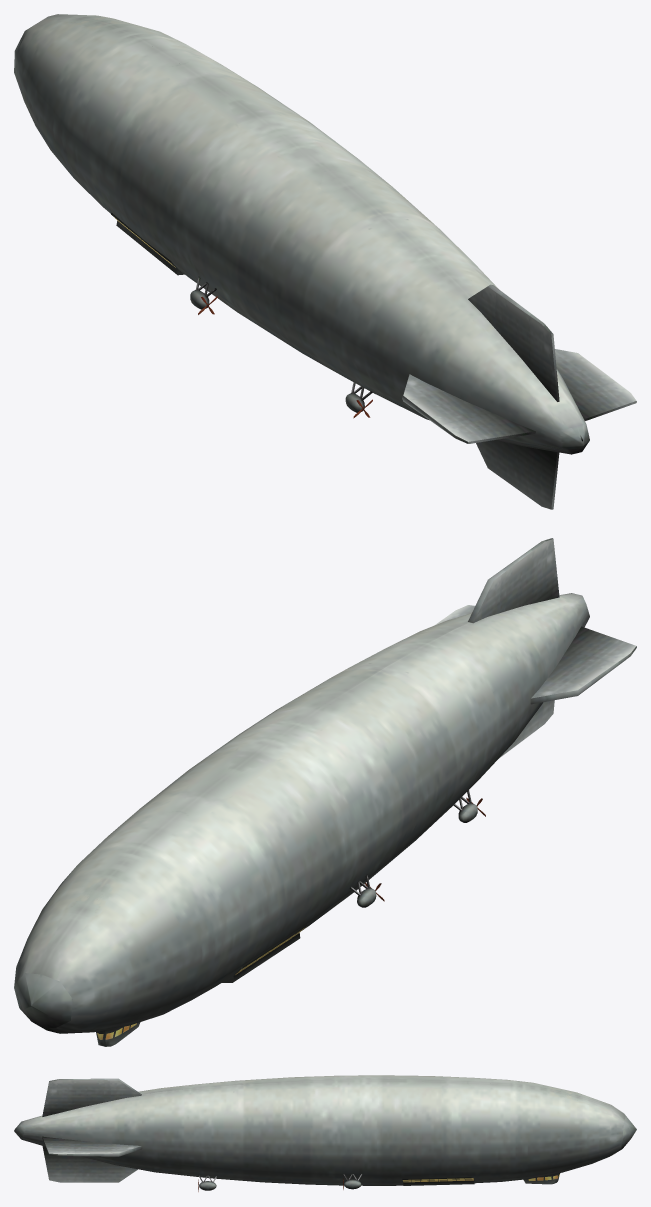
The model's file is zeppelin.glb.
3 views of the same model, one above another, from view 1: azimuth 30°, elevation 25°; view 2: azimuth 150°, elevation 25°; view 3: azimuth 270°, elevation 25° (orthographic). The views are drawn at different scales.
Parts seen in each view (by area): view 1: Material1; view 2: Material1; view 3: Material1.
Part boxes in pixels (box(x1,y1,x2,y2)): Material1: box(14, 14, 636, 509); Material1: box(14, 538, 636, 1046); Material1: box(14, 1075, 636, 1191).
Size of the model in its own units: 47.77 by 45.04 by 245.
1 material, 1 textured.
